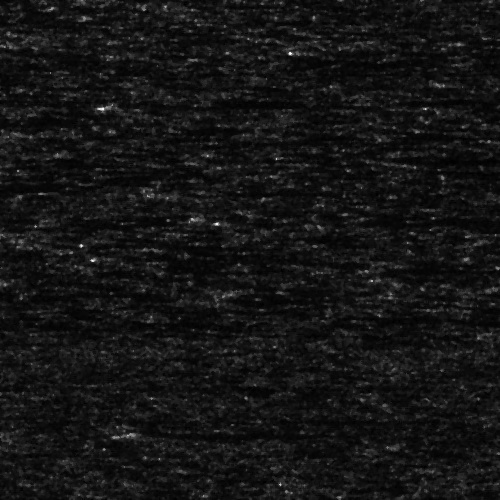object: (44, 92, 211, 111), (91, 427, 164, 438), (124, 189, 197, 198), (341, 96, 424, 103), (356, 157, 409, 166), (270, 46, 343, 51)
shadow: (128, 92, 388, 111), (127, 427, 377, 438), (383, 157, 500, 166), (307, 46, 498, 51), (383, 96, 500, 103), (161, 189, 247, 198), (0, 337, 68, 346)
